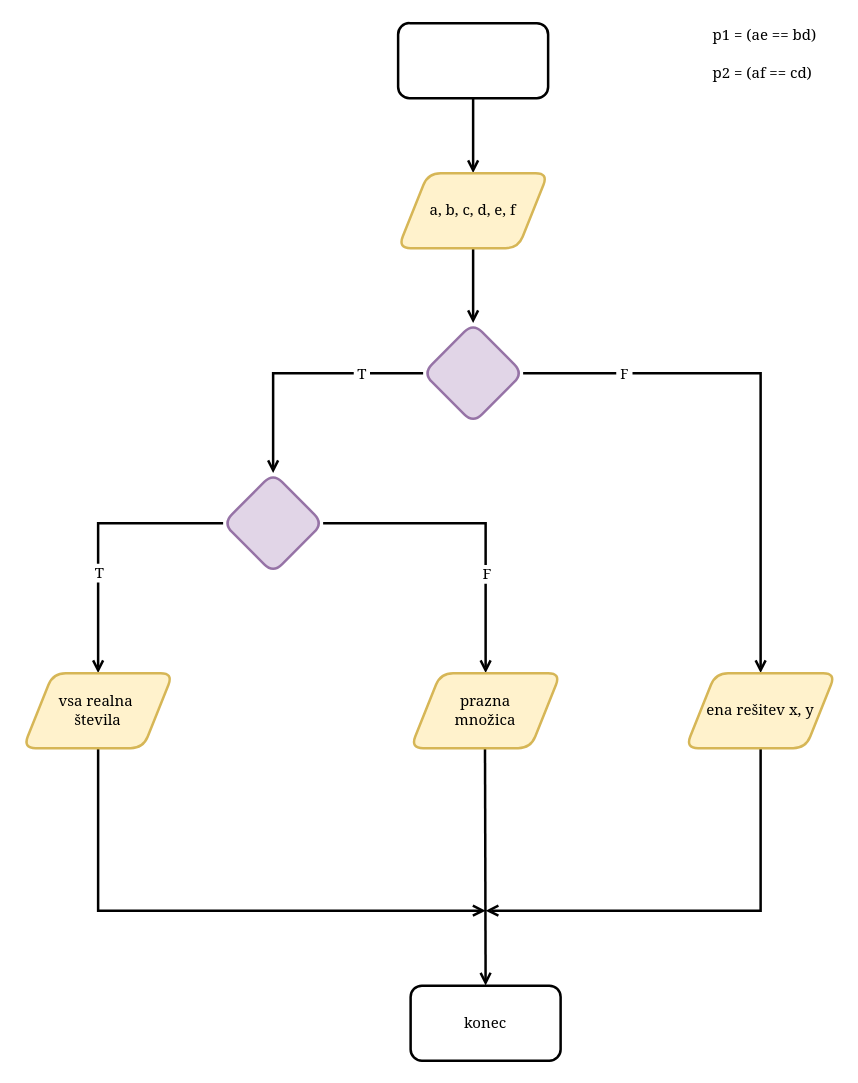
Some shapes in this 858 by 1083 pixel diagram are drawn without their labels. Here are the shapes that lost their labels. From the top down, the box of each, then its label:
(396, 21, 549, 99): začetek
(421, 321, 524, 424): p1
(221, 471, 324, 574): p2
